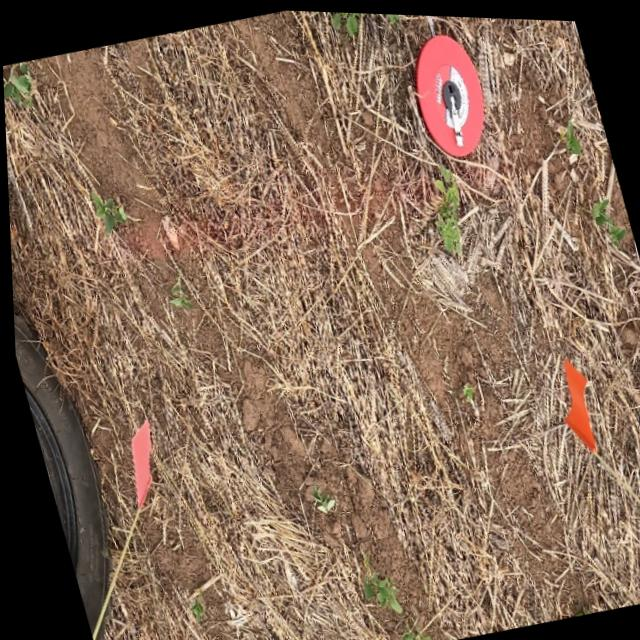caruru_weed: (433, 161, 459, 250), (459, 380, 476, 418)
soy_plant: (359, 552, 396, 609), (589, 194, 624, 241), (91, 192, 127, 232), (3, 61, 33, 105), (562, 115, 581, 157), (168, 276, 189, 307), (333, 10, 363, 31), (307, 484, 330, 510), (394, 625, 426, 640), (184, 598, 198, 620)
